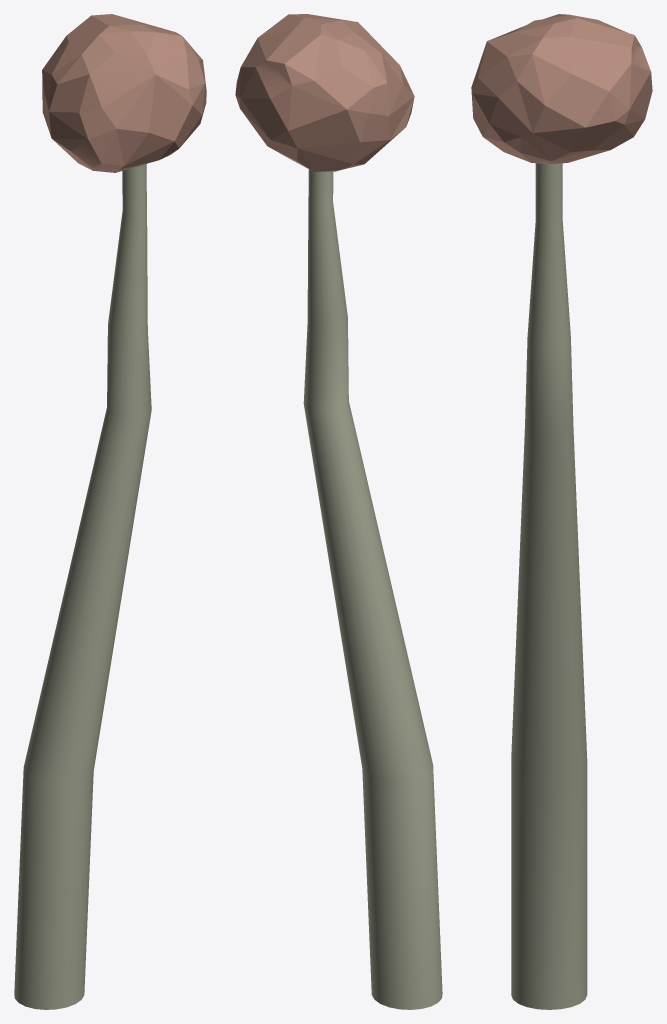
File: spore2.fbx
The picture shows the model from 3 angles, left to right: view 1: azimuth 30°, elevation 25°; view 2: azimuth 150°, elevation 25°; view 3: azimuth 270°, elevation 25°; orthographic projection. The views are drawn at different scales.
Visible parts, largest first — view 1: spore2_pCylinder1; view 2: spore2_pCylinder1; view 3: spore2_pCylinder1.
Part boxes in pixels (x1,y1,x2,y2): spore2_pCylinder1: [14, 14, 206, 1009]; spore2_pCylinder1: [235, 14, 442, 1009]; spore2_pCylinder1: [471, 14, 652, 1009].
Size of the model in its own units: 1.26 by 6.24 by 1.01.
